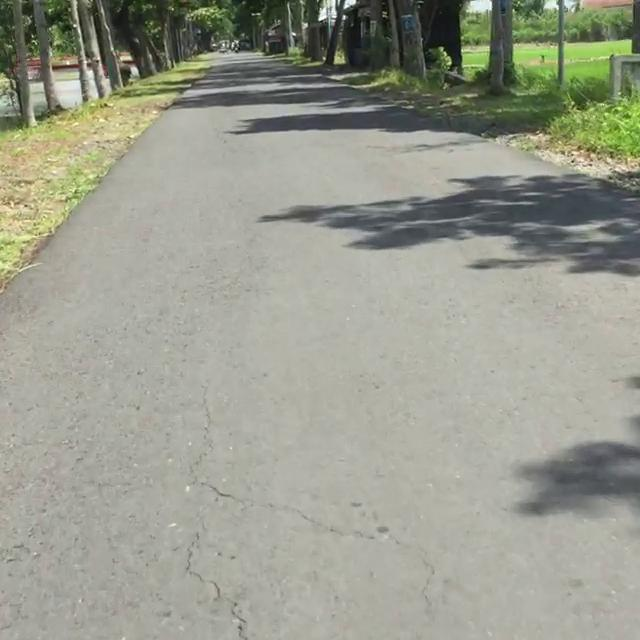retak_memanjang: (141, 351, 284, 640)
